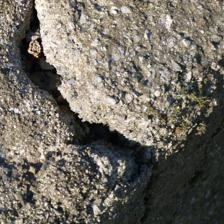Crack: (8, 3, 148, 164)
